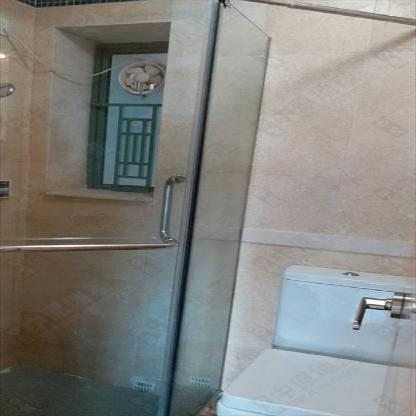Toilet: (214, 262, 415, 413)
Water Cubicle: (1, 0, 275, 414)
